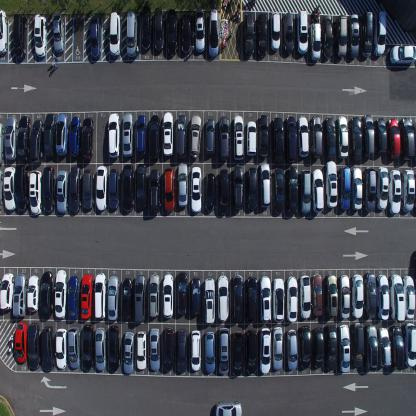car: (11, 12, 27, 60), (14, 165, 30, 211), (390, 273, 405, 321), (54, 268, 68, 319), (285, 165, 299, 215), (12, 272, 27, 317), (174, 112, 188, 160), (399, 118, 415, 160), (364, 324, 378, 372), (41, 325, 55, 373), (27, 322, 41, 370), (388, 168, 402, 214), (363, 167, 377, 213), (16, 115, 30, 161), (376, 274, 390, 320), (325, 160, 338, 209), (40, 270, 53, 319), (309, 114, 323, 159), (390, 324, 404, 369), (217, 326, 230, 374), (259, 326, 272, 374), (360, 10, 373, 58), (122, 164, 135, 212), (95, 164, 108, 212), (401, 169, 415, 213), (80, 116, 94, 160), (402, 275, 416, 319), (67, 325, 81, 369), (386, 118, 401, 159), (259, 275, 272, 322), (364, 271, 377, 318), (80, 273, 93, 320), (14, 321, 28, 364), (231, 165, 244, 211), (4, 115, 17, 161), (29, 170, 42, 216), (272, 278, 285, 324), (389, 44, 416, 66), (134, 274, 146, 323), (207, 8, 219, 57), (377, 326, 391, 368), (338, 324, 350, 373), (82, 324, 94, 373), (163, 167, 176, 212), (189, 114, 202, 159), (217, 116, 230, 161), (43, 112, 56, 157), (30, 118, 43, 163), (351, 322, 364, 367), (148, 112, 160, 160), (204, 277, 216, 325), (232, 274, 244, 322), (218, 168, 230, 216), (126, 10, 138, 58), (109, 10, 121, 58), (272, 116, 284, 164), (285, 116, 297, 164), (69, 165, 81, 213), (325, 323, 337, 371), (108, 325, 120, 373), (94, 272, 106, 320), (162, 327, 175, 371), (347, 13, 360, 57), (362, 113, 375, 157), (350, 166, 363, 210), (311, 168, 324, 212), (351, 274, 364, 318), (325, 274, 338, 318), (312, 325, 325, 369), (245, 275, 257, 322), (217, 275, 229, 322), (273, 167, 285, 214), (259, 161, 271, 208), (43, 165, 55, 212), (286, 276, 298, 323), (107, 274, 119, 321), (0, 271, 14, 311), (242, 13, 255, 56), (190, 166, 202, 212), (231, 330, 243, 376), (374, 11, 386, 57), (337, 114, 349, 160), (350, 116, 362, 162), (122, 112, 134, 158), (108, 112, 120, 158), (403, 322, 415, 368), (299, 274, 311, 320), (299, 324, 311, 370), (94, 326, 106, 372), (52, 11, 65, 53), (149, 327, 161, 372), (176, 162, 188, 207), (162, 274, 174, 319), (176, 271, 188, 316), (245, 328, 257, 373), (148, 168, 160, 213), (296, 10, 308, 55), (89, 14, 101, 59), (34, 13, 46, 58), (246, 166, 258, 211), (338, 274, 350, 319), (67, 275, 79, 320), (166, 7, 177, 55), (121, 276, 133, 320), (256, 12, 268, 56), (282, 11, 294, 55), (335, 14, 347, 58), (324, 116, 336, 160), (376, 166, 388, 210), (338, 165, 350, 209), (299, 169, 311, 213), (4, 166, 16, 210), (56, 170, 68, 214), (136, 163, 147, 210), (82, 167, 94, 210), (286, 328, 298, 371), (176, 329, 187, 375), (140, 4, 151, 50), (297, 116, 309, 158), (108, 168, 120, 210), (69, 115, 81, 157), (55, 328, 67, 370), (162, 111, 173, 156), (153, 6, 164, 51), (233, 115, 244, 160), (135, 329, 147, 370), (56, 113, 68, 154), (149, 274, 160, 318), (205, 330, 216, 374), (190, 328, 201, 372), (123, 331, 134, 375), (322, 15, 333, 59), (258, 114, 269, 158), (272, 326, 283, 370), (309, 22, 321, 62), (180, 11, 191, 54), (245, 119, 257, 157), (375, 117, 387, 155), (27, 274, 39, 312), (194, 7, 204, 52), (214, 400, 242, 416), (205, 172, 216, 212), (136, 113, 146, 157), (190, 277, 201, 317), (312, 273, 322, 317), (270, 11, 280, 51), (0, 7, 8, 56), (205, 118, 215, 154), (0, 122, 4, 166), (0, 168, 3, 210)
